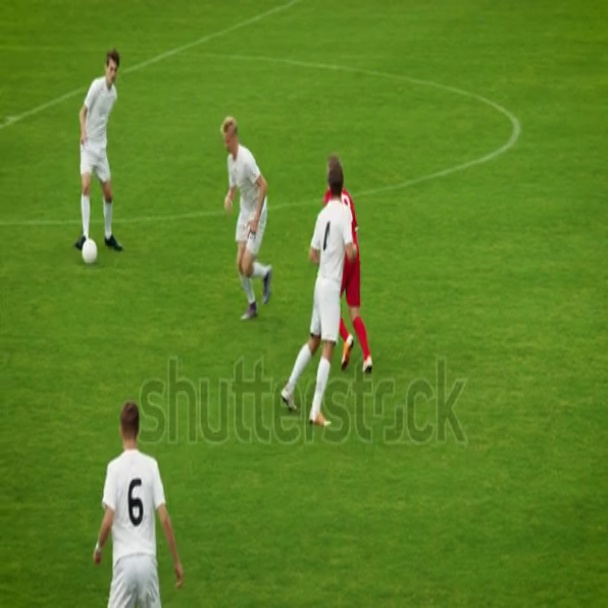ball: (82, 236, 99, 265)
